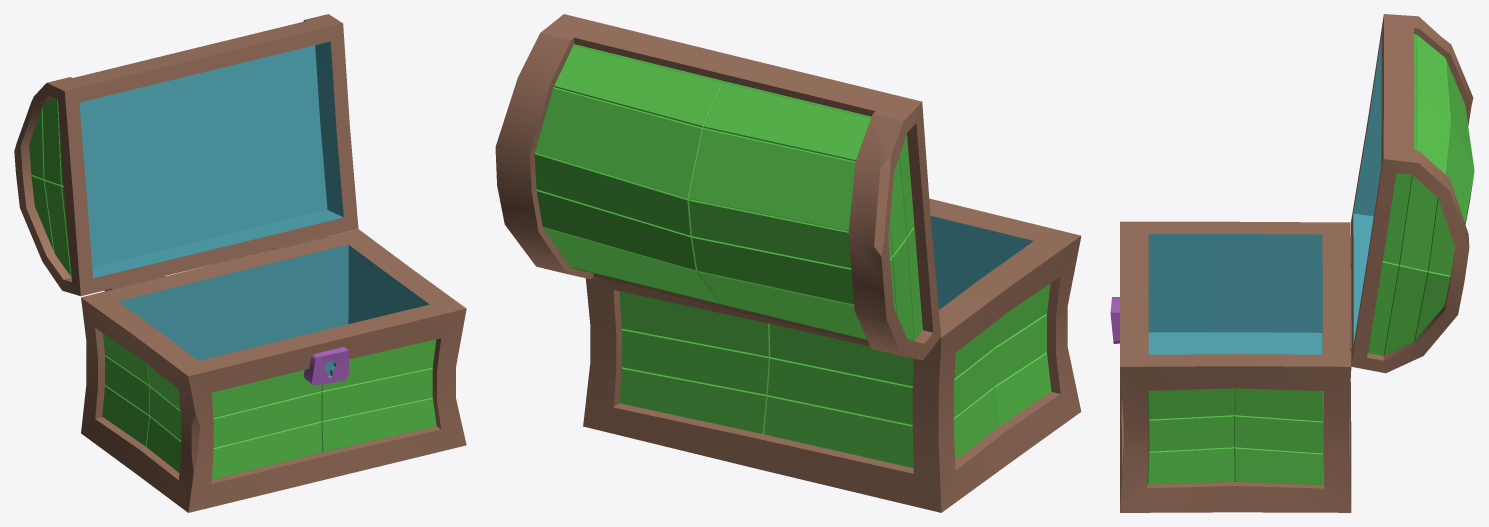
File: Treasure_Chest_Open.fbx
3 views of the same model, side by side, from view 1: azimuth 30°, elevation 25°; view 2: azimuth 150°, elevation 25°; view 3: azimuth 270°, elevation 25° (orthographic). The views are drawn at different scales.
Visible parts, largest first — view 1: Treasure_Chest_Lid; view 2: Treasure_Chest_Lid; view 3: Treasure_Chest_Lid.
Part boxes in pixels (left/top/right/bottom): Treasure_Chest_Lid: left=14, top=14, right=466, bottom=512; Treasure_Chest_Lid: left=495, top=14, right=1081, bottom=512; Treasure_Chest_Lid: left=1110, top=14, right=1474, bottom=512.
Bounding box in the file's own units: 2.18 × 2.29 × 2.13.
